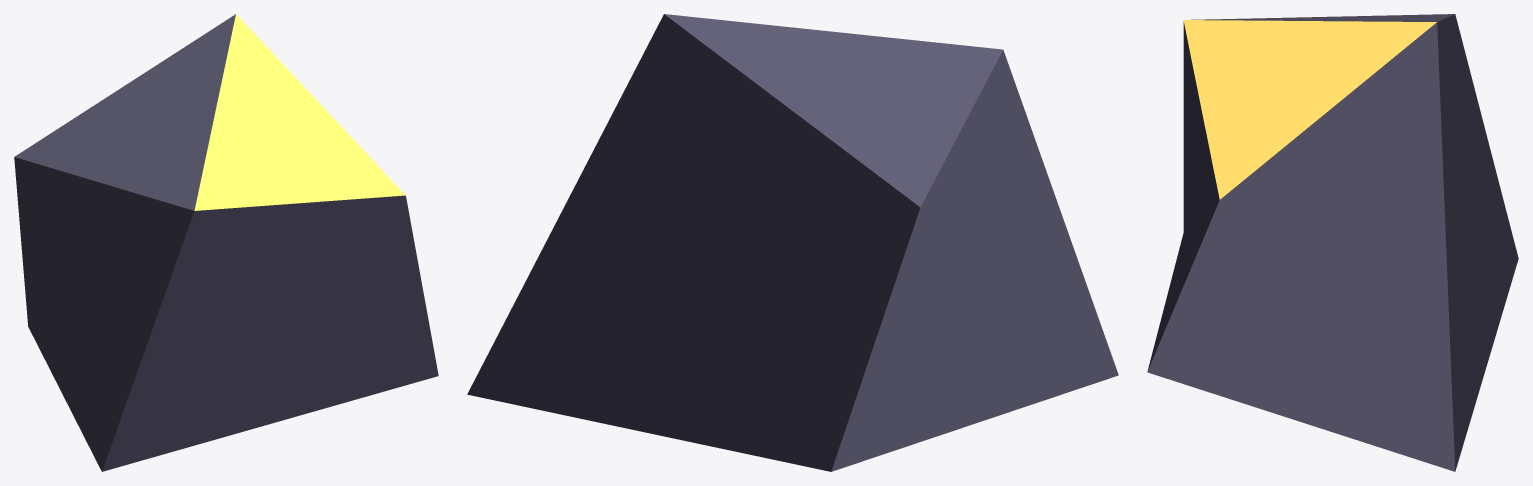
Rendered from skystrike_shard.glb.
3 renders of one model, left to right at view 1: azimuth 30°, elevation 25°; view 2: azimuth 150°, elevation 25°; view 3: azimuth 270°, elevation 25°, orthographic. The views are drawn at different scales.
Parts seen in each view (by area): view 1: SkystrikeShard; view 2: SkystrikeShard; view 3: SkystrikeShard.
Boxes of the visible parts, box(x1,y1,x2,y2) form: SkystrikeShard: box(14, 14, 438, 471); SkystrikeShard: box(467, 14, 1118, 471); SkystrikeShard: box(1147, 14, 1518, 471).
Size of the model in its own units: 0.56 by 0.45 by 0.41.
